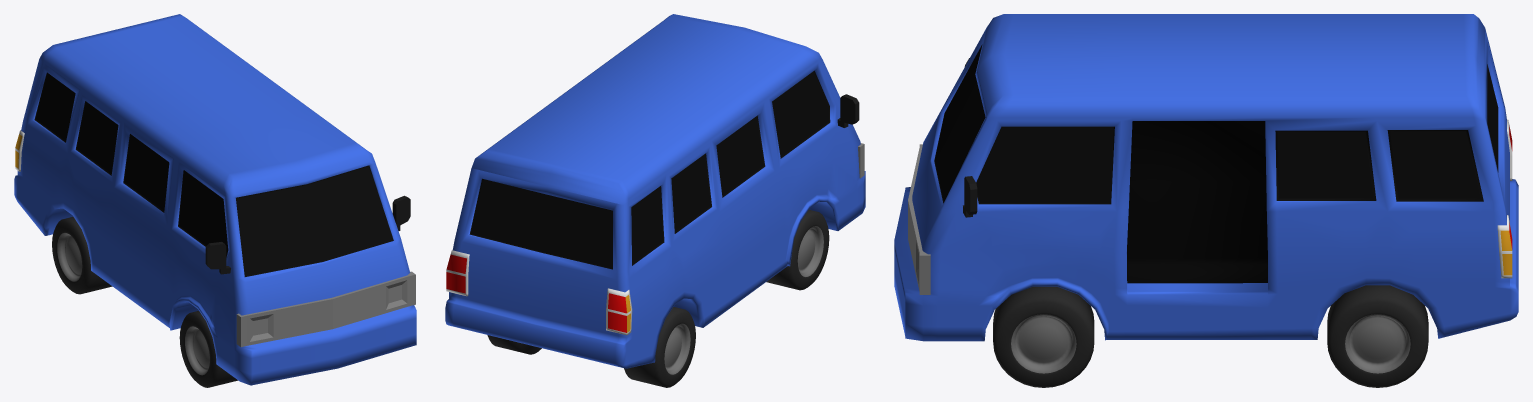
Rendered from angkot1.fbx.
3 renders of one model, left to right at view 1: azimuth 30°, elevation 25°; view 2: azimuth 150°, elevation 25°; view 3: azimuth 270°, elevation 25°, orthographic. The views are drawn at different scales.
Visible parts, largest first — view 1: body, Cube, Cylinder, Cylinder.001, Cube.001; view 2: body, Cylinder, Cylinder.001, Cube.002, Cube.001; view 3: body, Cylinder, Cylinder.001, Cube, Cube.002, Cube.001.
Boxes of the visible parts, <box> form: body: <box>14,14,416,385</box>; Cube: <box>236,271,415,347</box>; Cylinder: <box>52,216,112,294</box>; Cylinder.001: <box>179,311,237,387</box>; Cube.001: <box>205,195,410,274</box>; body: <box>445,14,865,368</box>; Cylinder: <box>487,307,695,387</box>; Cylinder.001: <box>766,209,829,290</box>; Cube.002: <box>446,250,632,335</box>; Cube.001: <box>837,94,859,127</box>; body: <box>894,14,1518,341</box>; Cylinder: <box>1327,285,1428,387</box>; Cylinder.001: <box>993,286,1094,387</box>; Cube: <box>908,144,930,294</box>; Cube.002: <box>1497,119,1512,278</box>; Cube.001: <box>963,58,977,217</box>.
Bounding box in the file's own units: 530 × 537 × 1077.
